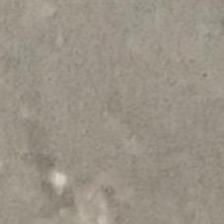Non_Crack: (22, 27, 202, 173)
